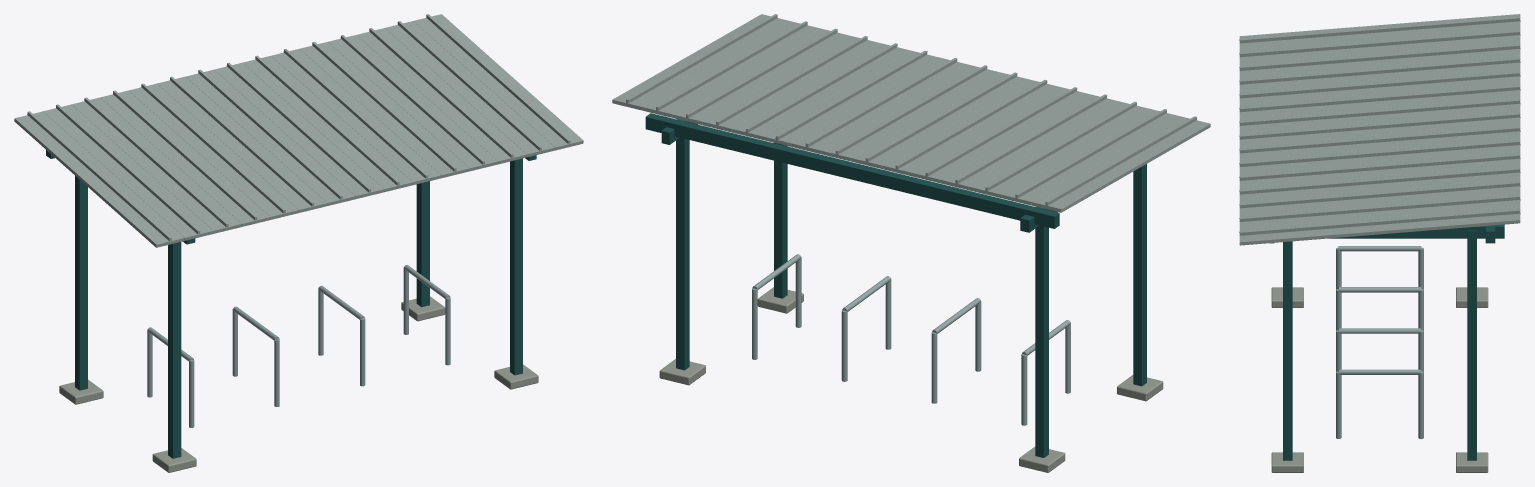
The model's file is edited.glb.
3 renders of one model, left to right at view 1: azimuth 30°, elevation 25°; view 2: azimuth 150°, elevation 25°; view 3: azimuth 270°, elevation 25°, orthographic. The views are drawn at different scales.
Parts seen in each view (by area): view 1: ROOF_Sheet_00, ROOF_Sheet_02, ROOF_Sheet_05, ROOF_Sheet_07, ROOF_Sheet_04, ROOF_Sheet_01, ROOF_Sheet_03, ROOF_Sheet_09, ROOF_Sheet_10, ROOF_Sheet_12, ROOF_Sheet_14, ROOF_Sheet_08 (+26 smaller); view 2: BEAM_Long, ROOF_Sheet_00, COLUMN_Post, COLUMN_Post.002, ROOF_Sheet_03, ROOF_Sheet_02, ROOF_Sheet_14, ROOF_Sheet_01, ROOF_Sheet_04, ROOF_Sheet_06, ROOF_Sheet_07, ROOF_Sheet_10 (+27 smaller); view 3: ROOF_Sheet_14, ROOF_Sheet_05, ROOF_Sheet_09, ROOF_Sheet_07, ROOF_Sheet_10, ROOF_Sheet_11, ROOF_Sheet_00, ROOF_Sheet_02, ROOF_Sheet_03, ROOF_Sheet_12, ROOF_Sheet_13, ROOF_Sheet_01 (+31 smaller).
Part boxes in pixels (left/top/right/bottom): ROOF_Sheet_00: left=14, top=111, right=184, bottom=247; ROOF_Sheet_02: left=72, top=97, right=241, bottom=233; ROOF_Sheet_05: left=157, top=76, right=327, bottom=212; ROOF_Sheet_07: left=214, top=63, right=384, bottom=198; ROOF_Sheet_04: left=128, top=83, right=298, bottom=219; ROOF_Sheet_01: left=43, top=104, right=213, bottom=240; ROOF_Sheet_03: left=100, top=90, right=270, bottom=226; ROOF_Sheet_09: left=271, top=49, right=440, bottom=184; ROOF_Sheet_10: left=299, top=42, right=469, bottom=178; ROOF_Sheet_12: left=357, top=28, right=526, bottom=164; ROOF_Sheet_14: left=413, top=14, right=583, bottom=150; ROOF_Sheet_08: left=242, top=56, right=412, bottom=192; BEAM_Long: left=645, top=113, right=1059, bottom=228; ROOF_Sheet_00: left=1031, top=116, right=1210, bottom=212; COLUMN_Post: left=676, top=137, right=689, bottom=370; COLUMN_Post.002: left=1035, top=225, right=1048, bottom=457; ROOF_Sheet_03: left=941, top=94, right=1120, bottom=190; ROOF_Sheet_02: left=971, top=102, right=1150, bottom=197; ROOF_Sheet_14: left=612, top=14, right=790, bottom=110; ROOF_Sheet_01: left=1001, top=109, right=1180, bottom=205; ROOF_Sheet_04: left=911, top=87, right=1090, bottom=183; ROOF_Sheet_06: left=852, top=72, right=1030, bottom=168; ROOF_Sheet_07: left=822, top=65, right=1000, bottom=161; ROOF_Sheet_10: left=732, top=43, right=910, bottom=139; ROOF_Sheet_14: left=1239, top=206, right=1520, bottom=245; ROOF_Sheet_05: left=1239, top=82, right=1520, bottom=118; ROOF_Sheet_09: left=1239, top=137, right=1520, bottom=173; ROOF_Sheet_07: left=1239, top=110, right=1520, bottom=145; ROOF_Sheet_10: left=1239, top=151, right=1520, bottom=187; ROOF_Sheet_11: left=1239, top=165, right=1520, bottom=200; ROOF_Sheet_00: left=1239, top=14, right=1520, bottom=49; ROOF_Sheet_02: left=1239, top=41, right=1520, bottom=77; ROOF_Sheet_03: left=1239, top=55, right=1520, bottom=90; ROOF_Sheet_12: left=1239, top=179, right=1520, bottom=214; ROOF_Sheet_13: left=1239, top=192, right=1520, bottom=228; ROOF_Sheet_01: left=1239, top=27, right=1520, bottom=63.
Size of the model in its own units: 4.5 by 2.75 by 2.59.
